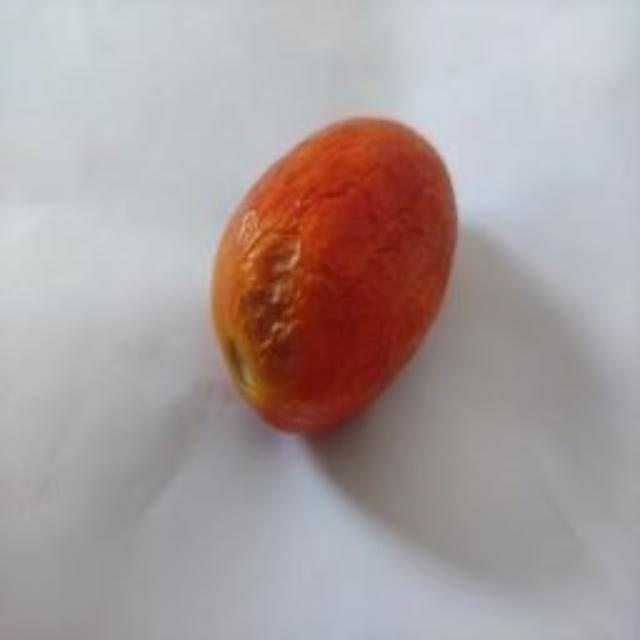defect: (204, 106, 462, 443)
